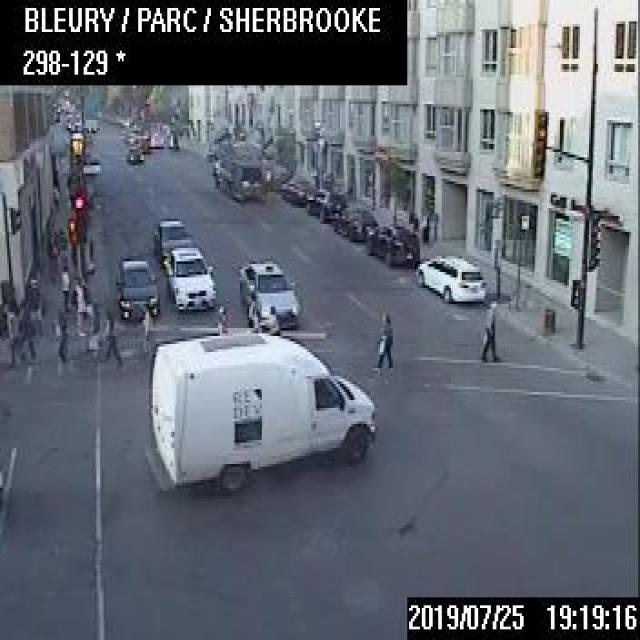pedestrian: (244, 291, 278, 333), (408, 205, 437, 243), (102, 307, 121, 365), (373, 307, 391, 365), (480, 299, 496, 360), (74, 276, 85, 336), (140, 301, 152, 355), (215, 299, 232, 333), (54, 314, 66, 362), (60, 264, 69, 310)
vehicle: (147, 328, 375, 488), (234, 256, 296, 323), (414, 252, 484, 302), (162, 244, 216, 308), (212, 147, 262, 202), (115, 256, 158, 318), (364, 222, 419, 266), (152, 217, 192, 260), (331, 206, 377, 240), (305, 186, 344, 222), (280, 172, 311, 204), (125, 142, 143, 163)
